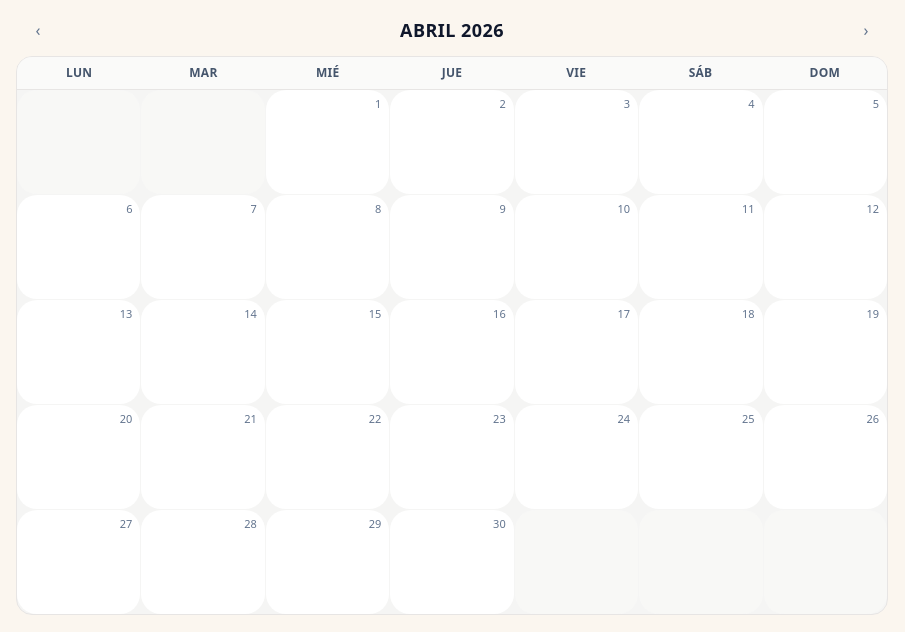
Test case: CalendarGrid › navigates to the next month when clicking the next button
The image size is (905, 632).
Click the button named "Mes siguiente". click: (866, 30)
box: [848,12,884,48]
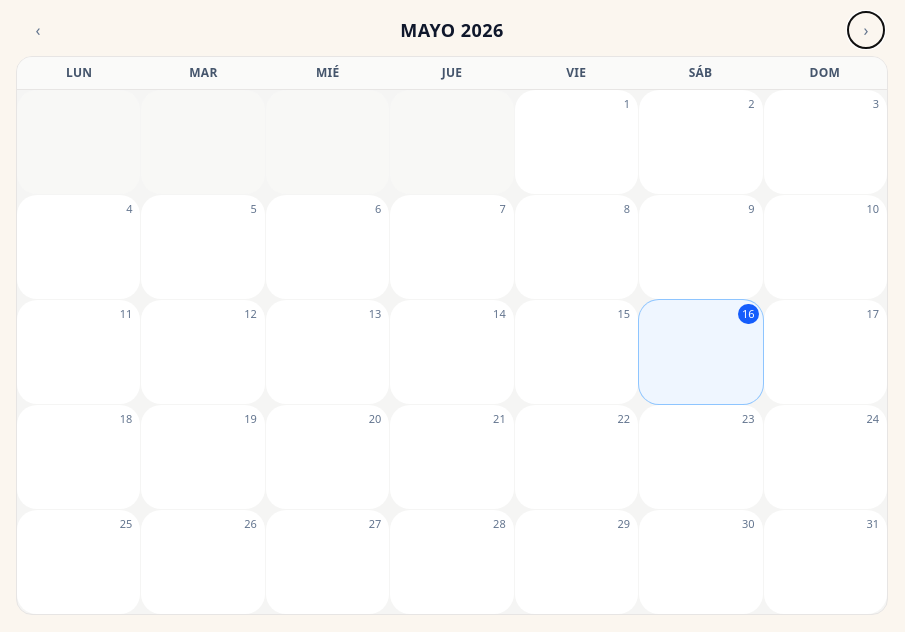
Now the heading "Mayo 2026" is shown, box [400,16,504,44]
